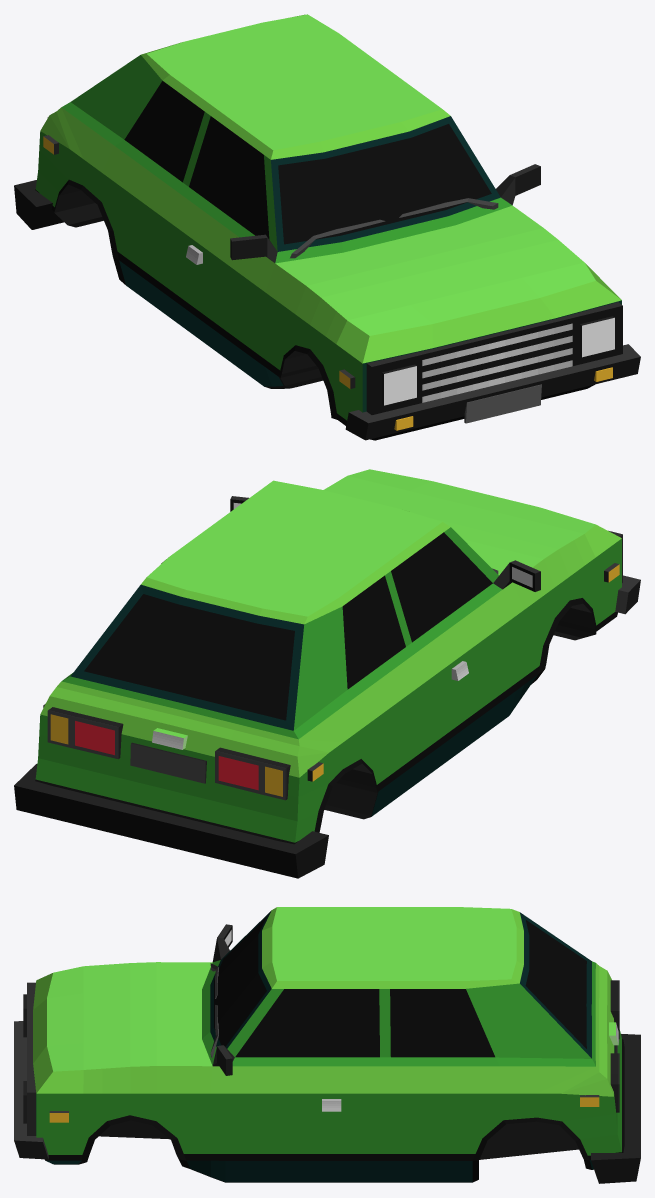
The model's file is Coupe.003.fbx.
The picture shows the model from 3 angles, top to bottom: view 1: azimuth 30°, elevation 25°; view 2: azimuth 150°, elevation 25°; view 3: azimuth 270°, elevation 25°; orthographic projection. The views are drawn at different scales.
Visible parts, largest first — view 1: Coupe.003; view 2: Coupe.003; view 3: Coupe.003.
Boxes of the visible parts, left/top/right/bottom form: Coupe.003: left=14, top=14, right=640, bottom=440; Coupe.003: left=14, top=469, right=640, bottom=878; Coupe.003: left=14, top=907, right=640, bottom=1183.
Size of the model in its own units: 1.75 by 1.14 by 3.44.
